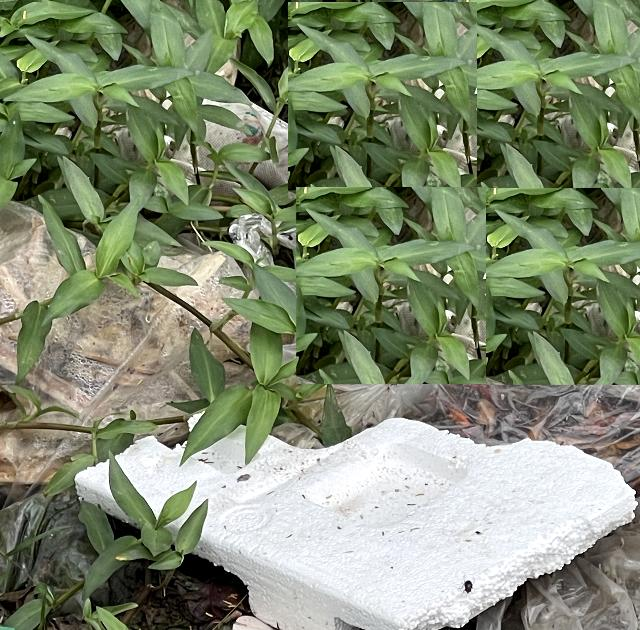cocksheet: (75, 381, 640, 630)
